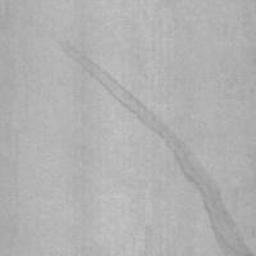Water spot: (58, 36, 256, 256)
